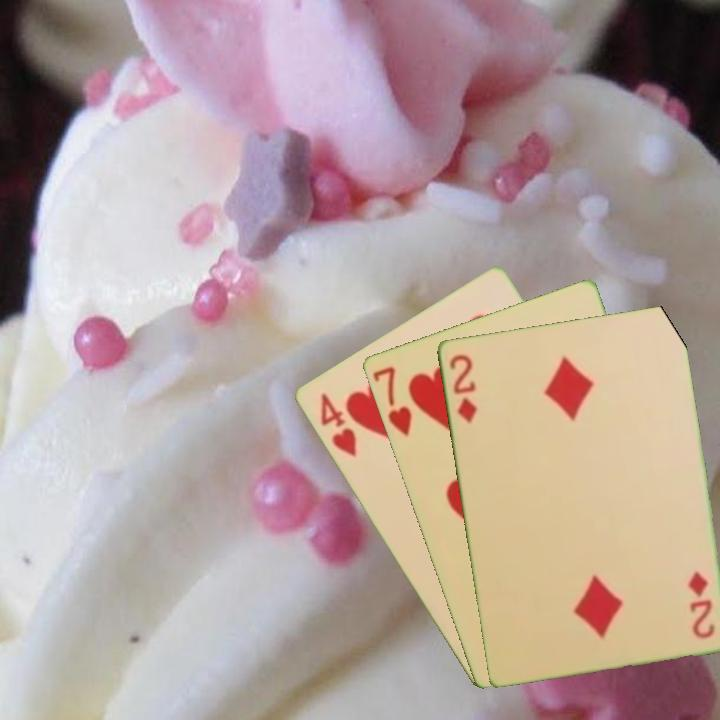2d: (445, 350, 479, 426), (684, 567, 717, 641)
4h: (316, 389, 359, 460)
7h: (368, 362, 415, 439)
